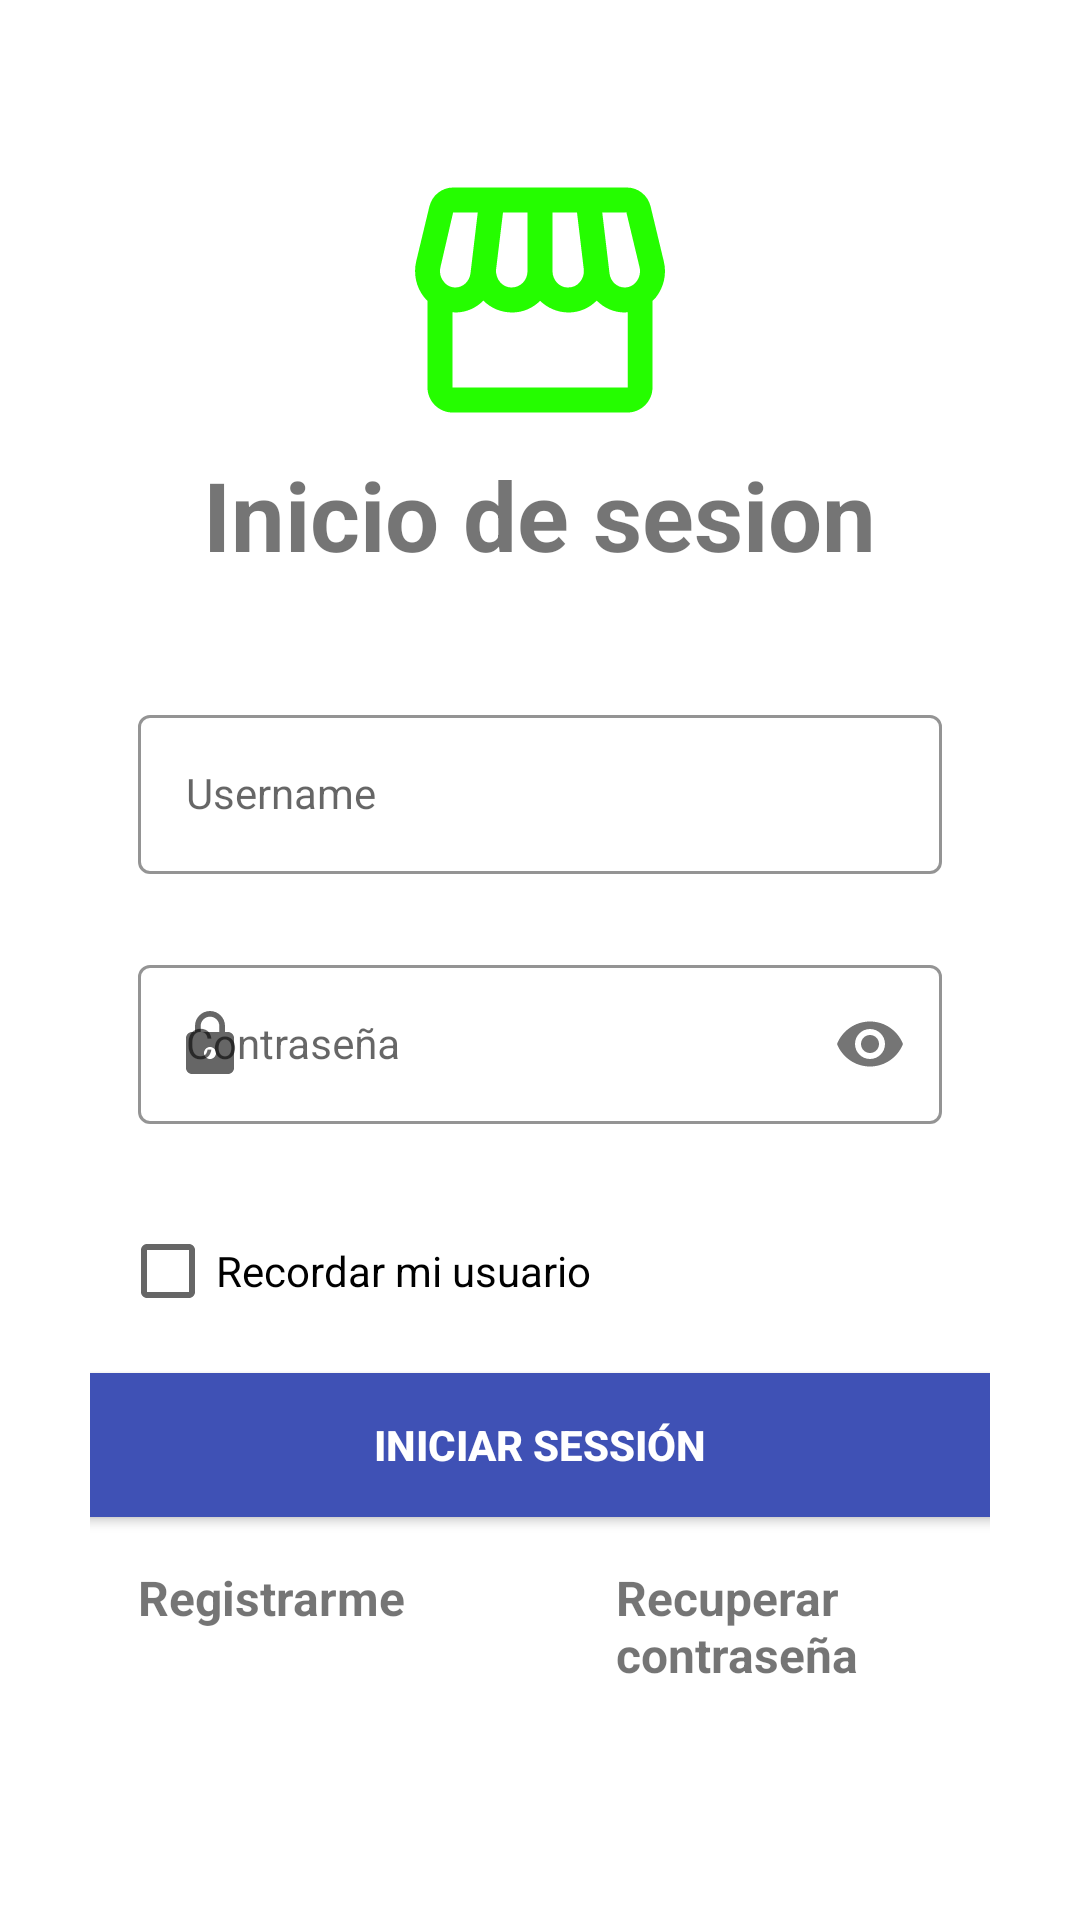

Locate icon controls on the screen. Image size 1080w x 1920h, boxes as box(x1, y1, x2, y2).
storefront: box(415, 187, 665, 413)
